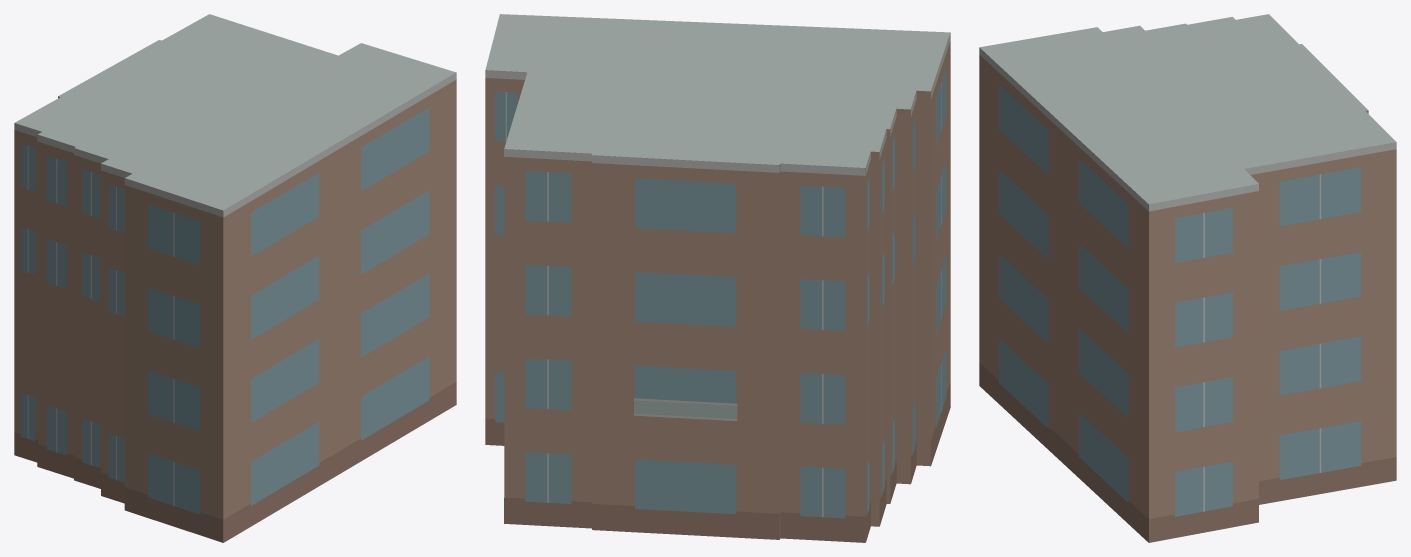
The model's file is survey-upis-32741655.glb.
3 views of the same model, side by side, from view 1: azimuth 30°, elevation 25°; view 2: azimuth 150°, elevation 25°; view 3: azimuth 270°, elevation 25° (orthographic). The views are drawn at different scales.
Parts seen in each view (by area): view 1: survey-upis-32741655.tmp; view 2: survey-upis-32741655.tmp; view 3: survey-upis-32741655.tmp.
Part boxes in pixels (x1,y1,x2,y2): survey-upis-32741655.tmp: (14,14,456,542); survey-upis-32741655.tmp: (485,14,950,542); survey-upis-32741655.tmp: (979,14,1396,542).
Bounding box in the file's own units: 14.13 × 11.7 × 13.09.
